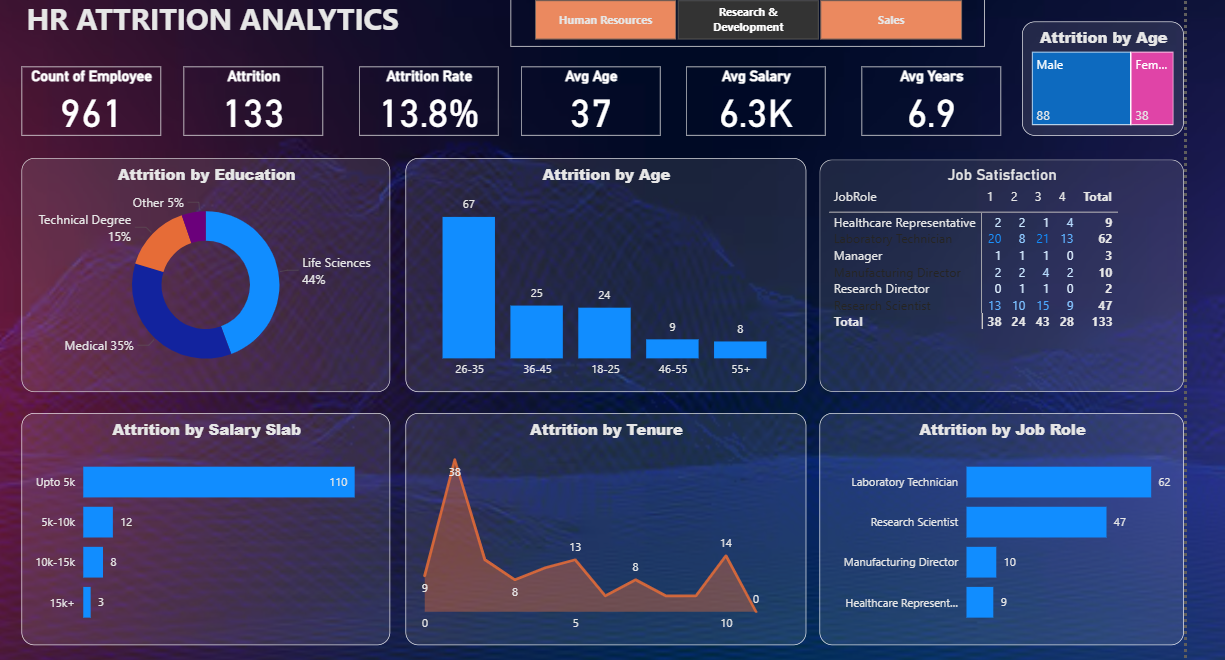

The page's visual inventory and layout, read from the dashboard file:
{"tool":"powerbi","page":{"name":"Page 1","canvas":[1280,720],"ordinal":0},"visuals":[{"type":"card","title":"Attrition","fields":{"Values":["Sum(HR_Analytics.AttritionCount)"]},"box":[199.2,79.3,150.6,74.5],"z":0},{"type":"card","title":"Count of Employee","fields":{"Values":["CountNonNull(HR_Analytics.EmpID)"]},"box":[24.3,79.3,150.6,74.5],"z":1000},{"type":"card","title":"Attrition Rate","fields":{"Values":["HR_Analytics.AttritionRate"]},"box":[388.6,79.3,150.6,74.5],"z":2000},{"type":"card","title":"Avg Salary","fields":{"Values":["Avg(HR_Analytics.MonthlyIncome)"]},"box":[741.6,79.3,150.6,74.5],"z":3000},{"type":"card","title":"Avg Age","fields":{"Values":["Avg(HR_Analytics.Age)"]},"box":[563.5,79.3,150.6,74.5],"z":4000},{"type":"card","title":"Avg Years","fields":{"Values":["Avg(HR_Analytics.YearsAtCompany)"]},"box":[931.1,79.3,150.6,74.5],"z":5000},{"type":"donutChart","title":"Attrition by Education","fields":{"Y":["Sum(HR_Analytics.AttritionCount)"],"Category":["HR_Analytics.EducationField"]},"box":[24.3,178.1,398.3,252.6],"z":6000},{"type":"columnChart","title":"Attrition by Age","fields":{"Category":["HR_Analytics.AgeGroup"],"Y":["Sum(HR_Analytics.AttritionCount)"]},"box":[438.8,178.1,432.3,252.6],"z":7000},{"type":"pivotTable","title":"Job Satisfaction","fields":{"Rows":["HR_Analytics.JobRole"],"Columns":["HR_Analytics.JobSatisfaction"],"Values":["Sum(HR_Analytics.AttritionCount)"]},"box":[885.7,179.7,393.5,251],"z":8000},{"type":"barChart","title":"Attrition by Salary Slab","fields":{"Category":["HR_Analytics.SalarySlab"],"Y":["Sum(HR_Analytics.AttritionCount)"]},"box":[24.3,453.4,398.3,251],"z":9000},{"type":"barChart","title":"Attrition by Job Role","fields":{"Y":["Sum(HR_Analytics.AttritionCount)"],"Category":["HR_Analytics.JobRole"]},"box":[885.7,453.4,393.5,251],"z":10000},{"type":"areaChart","title":"Attrition by Tenure","fields":{"Category":["HR_Analytics.YearsAtCompany"],"Y":["Sum(HR_Analytics.AttritionCount)"]},"box":[438.8,453.4,432.3,251],"z":11000},{"type":"treemap","title":"Attrition by Age","fields":{"Group":["HR_Analytics.Gender"],"Values":["Sum(HR_Analytics.AttritionCount)"]},"box":[1104.3,30.8,174.9,123.1],"z":12000},{"type":"slicer","fields":{"Values":["HR_Analytics.Department"]},"box":[552.2,0,511.7,58.3],"z":13000},{"type":"textbox","box":[24.3,0,453.4,58.3],"z":14000}]}

Visuals, with their boxes on the page's 1280x720 design canvas (x1, y1, x2, y2). These are canvas units, not pixel positions in the 1225x660 screenshot, which may show the page scaled, cropped or inside an application window:
"Attrition" card: [x1=199, y1=79, x2=350, y2=154]
"Count of Employee" card: [x1=24, y1=79, x2=175, y2=154]
"Attrition Rate" card: [x1=389, y1=79, x2=539, y2=154]
"Avg Salary" card: [x1=742, y1=79, x2=892, y2=154]
"Avg Age" card: [x1=564, y1=79, x2=714, y2=154]
"Avg Years" card: [x1=931, y1=79, x2=1082, y2=154]
"Attrition by Education" donutChart: [x1=24, y1=178, x2=423, y2=431]
"Attrition by Age" columnChart: [x1=439, y1=178, x2=871, y2=431]
"Job Satisfaction" pivotTable: [x1=886, y1=180, x2=1279, y2=431]
"Attrition by Salary Slab" barChart: [x1=24, y1=453, x2=423, y2=704]
"Attrition by Job Role" barChart: [x1=886, y1=453, x2=1279, y2=704]
"Attrition by Tenure" areaChart: [x1=439, y1=453, x2=871, y2=704]
"Attrition by Age" treemap: [x1=1104, y1=31, x2=1279, y2=154]
slicer - HR_Analytics.Department: [x1=552, y1=0, x2=1064, y2=58]
textbox: [x1=24, y1=0, x2=478, y2=58]
